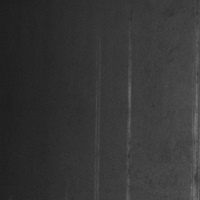scratches: (123, 24, 135, 196), (91, 38, 103, 199)
